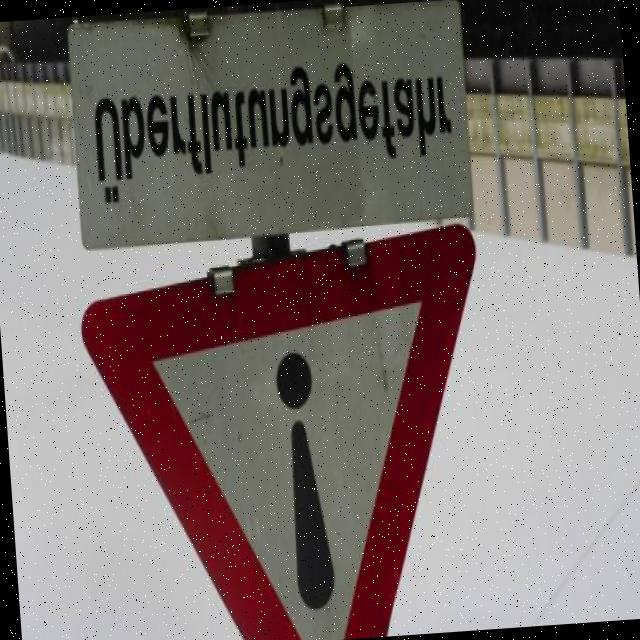warning: (68, 218, 529, 640)
